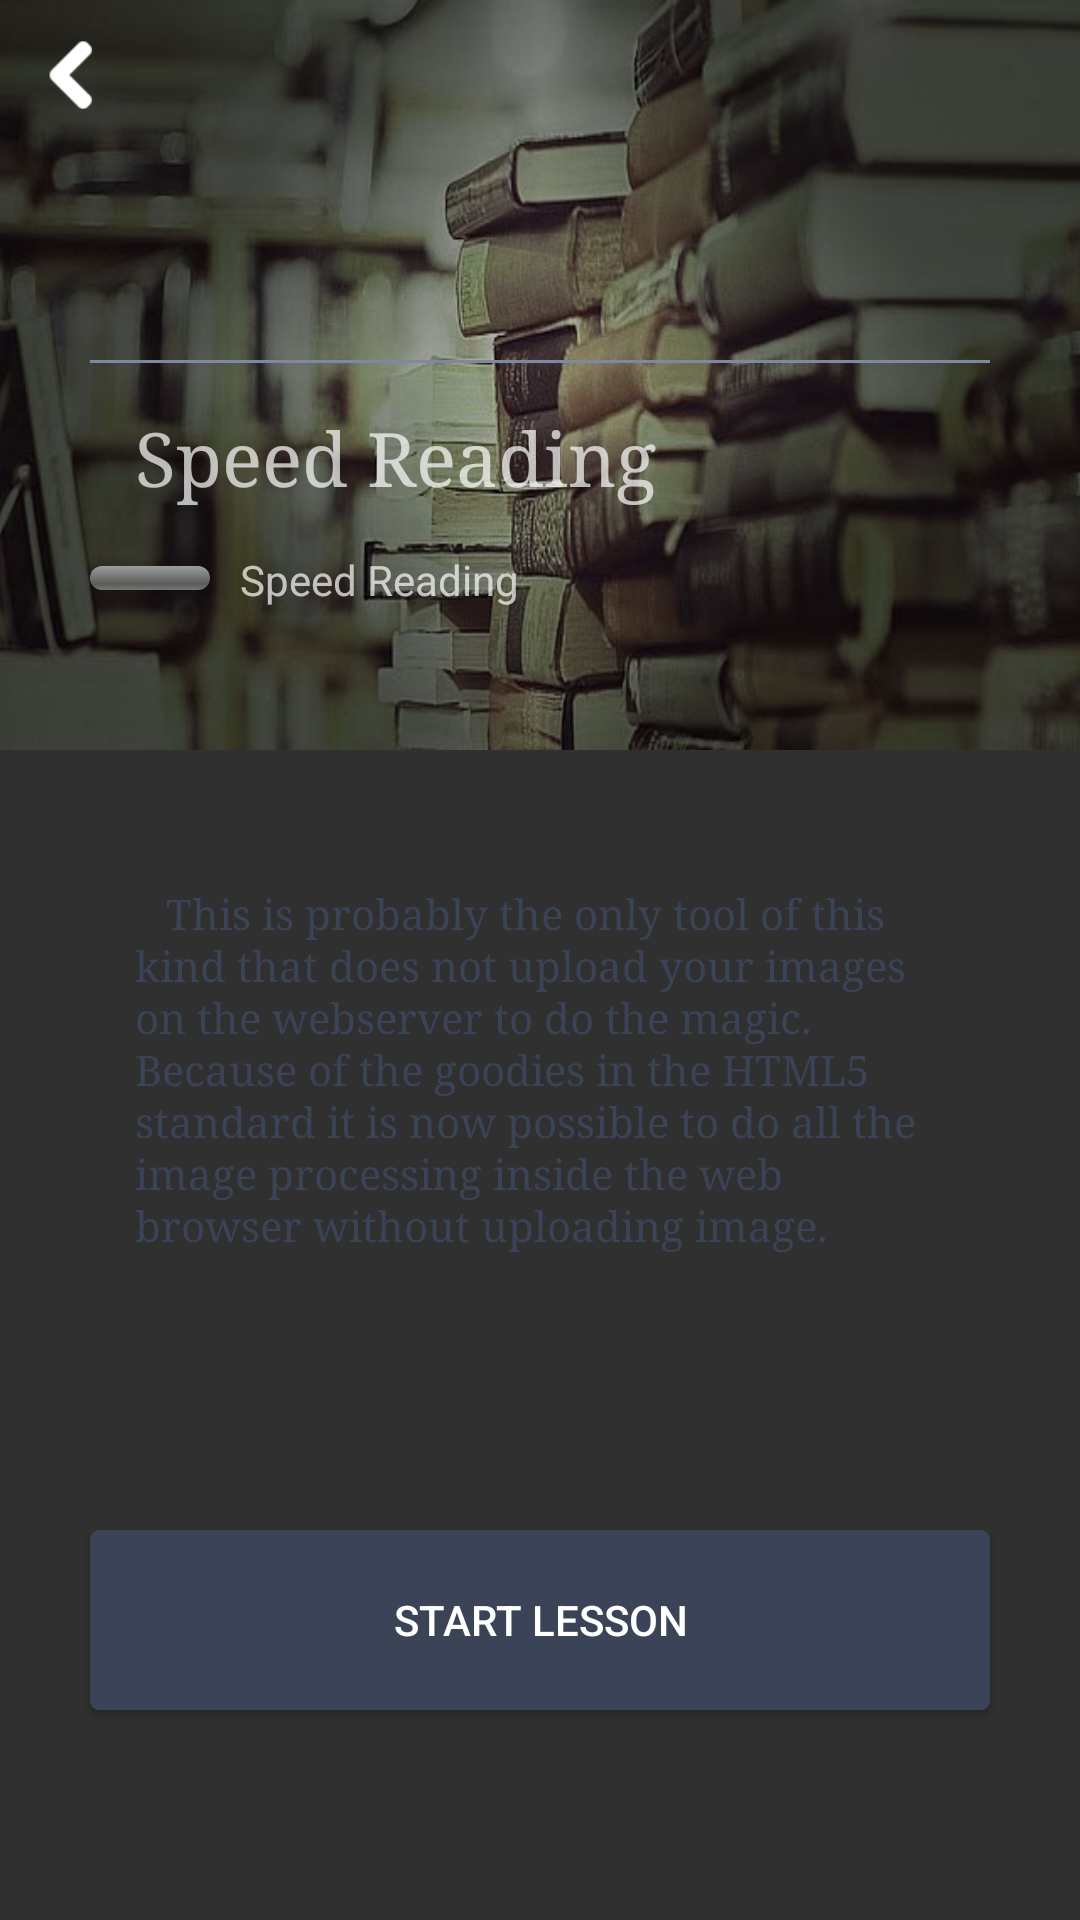

Named icons in this screenshot (1080w x 1920h) and their centers, (x,y):
left arrow: (70,75)
